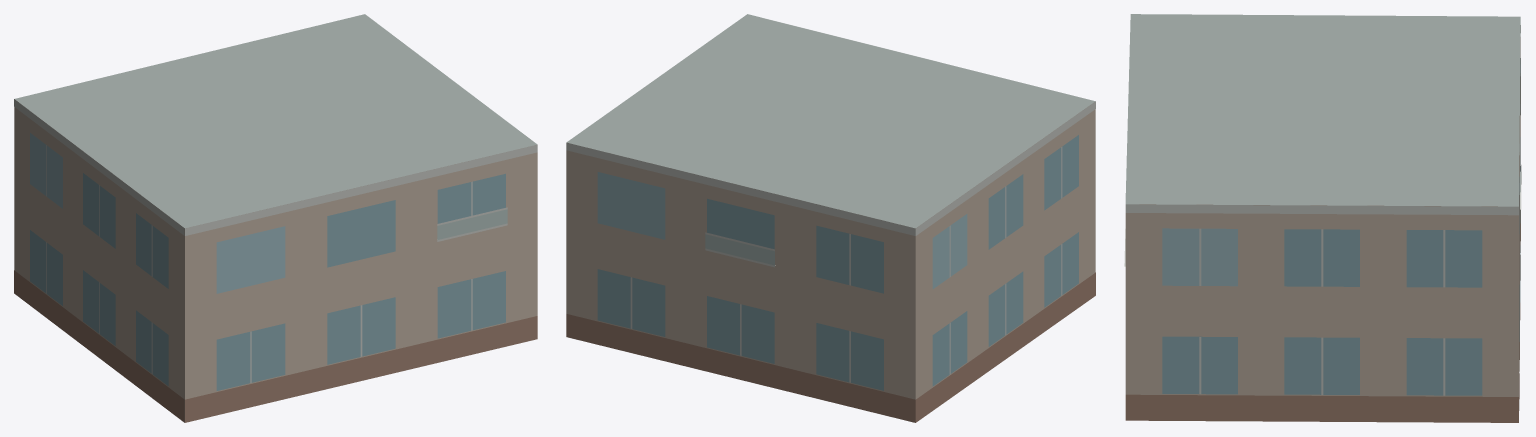
File: survey-upis-32565257.glb
3 views of the same model, side by side, from view 1: azimuth 30°, elevation 25°; view 2: azimuth 150°, elevation 25°; view 3: azimuth 270°, elevation 25° (orthographic). The views are drawn at different scales.
Visible parts, largest first — view 1: survey-upis-32565257.tmp; view 2: survey-upis-32565257.tmp; view 3: survey-upis-32565257.tmp.
Boxes of the visible parts, x1=… form: survey-upis-32565257.tmp: x1=14, y1=14, x2=537, y2=422; survey-upis-32565257.tmp: x1=566, y1=14, x2=1095, y2=422; survey-upis-32565257.tmp: x1=1124, y1=14, x2=1521, y2=422.
Size of the model in its own units: 11.66 by 6.1 by 10.15.
